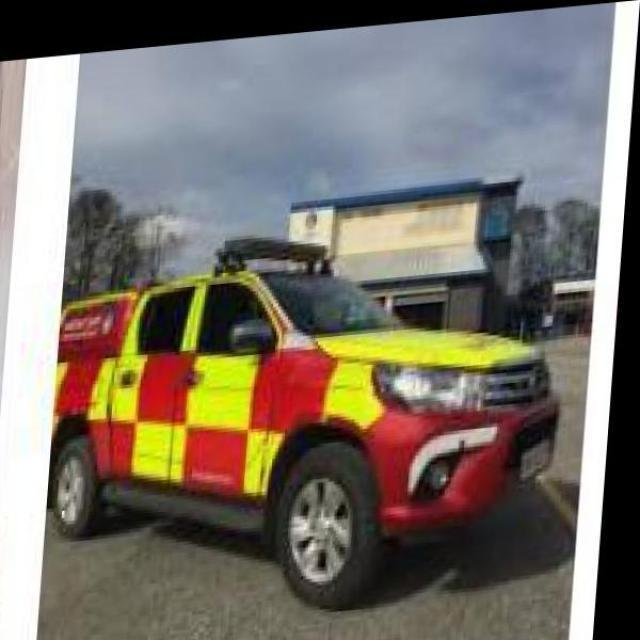emergency: (48, 235, 560, 609)
